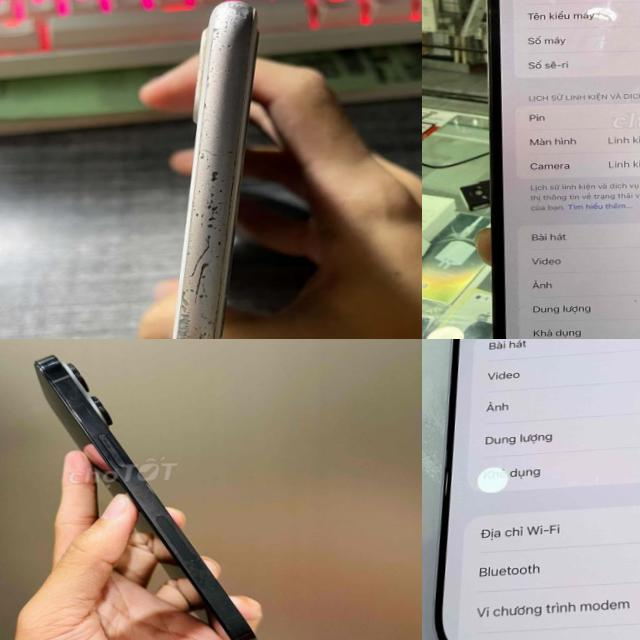scratch: (166, 246, 231, 339), (178, 147, 236, 248), (200, 0, 257, 85)
